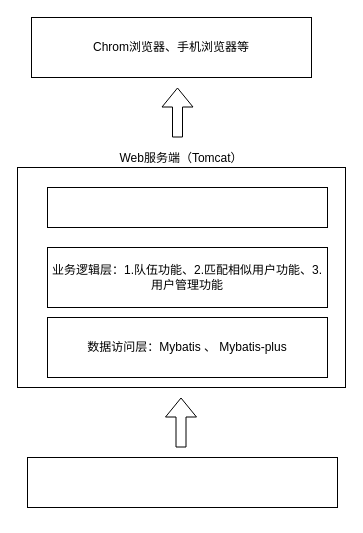
Some shapes in this 363 by 533 pixel diagram are drawn without their labels. Each missing label, with the centre of its shape:
数据库：MySQL、Redis: [182,482]
表示层：Vue 、 Vant组件、JavaScript: [187,207]
